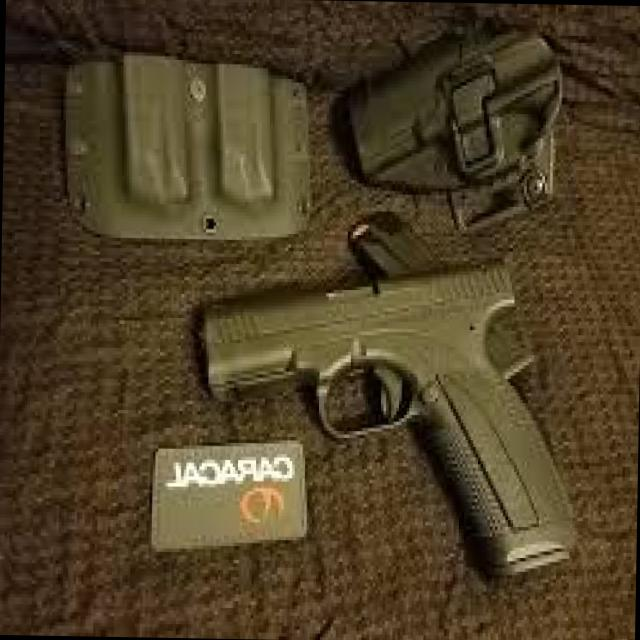Gun: (193, 243, 590, 591)
